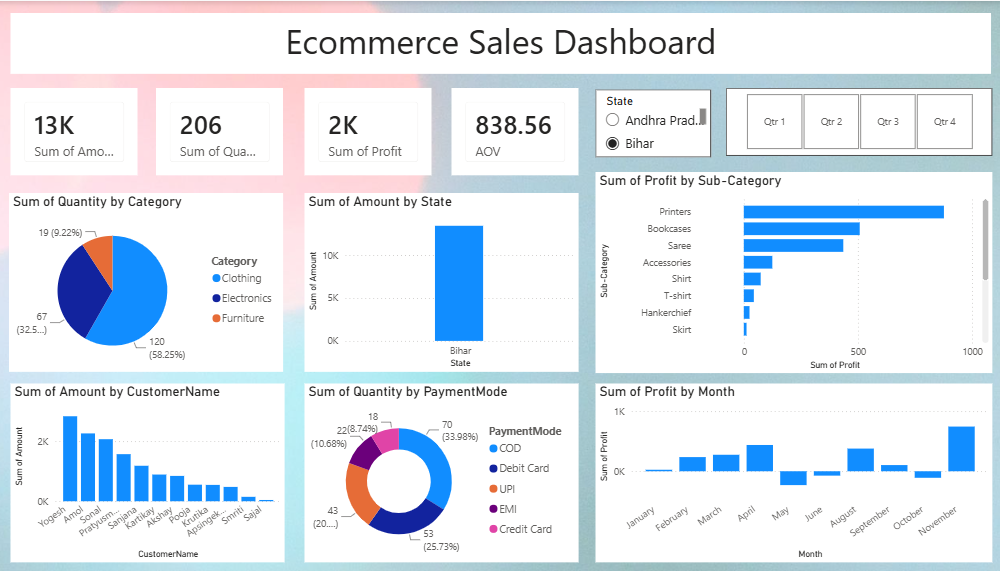

This screenshot's page, from the dashboard's own definition file:
{"tool":"powerbi","page":{"name":"Page 1","canvas":[1280,720],"ordinal":0},"visuals":[{"type":"textbox","box":[25.5,15.7,1235.3,76.5],"z":0},{"type":"cardVisual","fields":{"Data":["Sum(Details[1].Amount)"]},"box":[25.5,109.8,160,110],"z":1000},{"type":"cardVisual","fields":{"Data":["Sum(Details[1].Quantity)"]},"box":[207.8,109.8,160,110],"z":2000},{"type":"cardVisual","fields":{"Data":["Sum(Details[1].Profit)"]},"box":[394.1,109.8,160,110],"z":3000},{"type":"pieChart","fields":{"Category":["Details[1].Category"],"Y":["Sum(Details[1].Quantity)"]},"box":[23.5,241.2,345,225],"z":4000},{"type":"clusteredColumnChart","fields":{"Y":["Sum(Details[1].Amount)"],"Category":["Orders[1].State"]},"box":[394.1,241.2,345.1,225],"z":5000},{"type":"clusteredColumnChart","fields":{"Y":["Sum(Details[1].Amount)"],"Category":["Orders[1].CustomerName"]},"box":[25.5,482.4,345,225],"z":6000},{"type":"donutChart","fields":{"Category":["Details[1].PaymentMode"],"Y":["Sum(Details[1].Quantity)"]},"box":[394.1,482.4,345.1,225],"z":7000},{"type":"barChart","fields":{"Category":["Details[1].Sub-Category"],"Y":["Sum(Details[1].Profit)"]},"box":[760.8,215.7,500,253],"z":8000},{"type":"clusteredColumnChart","fields":{"Y":["Sum(Details[1].Profit)"],"Category":["Orders[1].Order Date.Variation.Date Hierarchy.Month"]},"box":[760.8,482.4,500,225],"z":9000},{"type":"slicer","fields":{"Values":["Orders[1].Order Date.Variation.Date Hierarchy.Quarter"]},"box":[925.5,109.8,335,85],"z":10000},{"type":"slicer","fields":{"Values":["Orders[1].State"]},"box":[760.8,111.8,145,85],"z":10001},{"type":"cardVisual","fields":{"Data":["Details[1].AOV"]},"box":[580.4,109.8,160,110],"z":10002}]}

Visuals, with their boxes in screenshot pixels (x1, y1, x2, y2), scaled from the page's 1280x720 canvas onto the 1000x571 screenshot:
textbox: select_region(20, 12, 985, 73)
cardVisual - Sum(Details[1].Amount): select_region(20, 87, 145, 174)
cardVisual - Sum(Details[1].Quantity): select_region(162, 87, 287, 174)
cardVisual - Sum(Details[1].Profit): select_region(308, 87, 433, 174)
pieChart - Details[1].Category x Sum(Details[1].Quantity): select_region(18, 191, 288, 370)
clusteredColumnChart - Sum(Details[1].Amount) x Orders[1].State: select_region(308, 191, 578, 370)
clusteredColumnChart - Sum(Details[1].Amount) x Orders[1].CustomerName: select_region(20, 383, 289, 561)
donutChart - Details[1].PaymentMode x Sum(Details[1].Quantity): select_region(308, 383, 578, 561)
barChart - Details[1].Sub-Category x Sum(Details[1].Profit): select_region(594, 171, 985, 372)
clusteredColumnChart - Sum(Details[1].Profit) x Orders[1].Order Date.Variation.Date Hierarchy.Month: select_region(594, 383, 985, 561)
slicer - Orders[1].Order Date.Variation.Date Hierarchy.Quarter: select_region(723, 87, 985, 154)
slicer - Orders[1].State: select_region(594, 89, 708, 156)
cardVisual - Details[1].AOV: select_region(453, 87, 578, 174)
